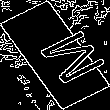M_SW: (15, 22, 95, 88)
